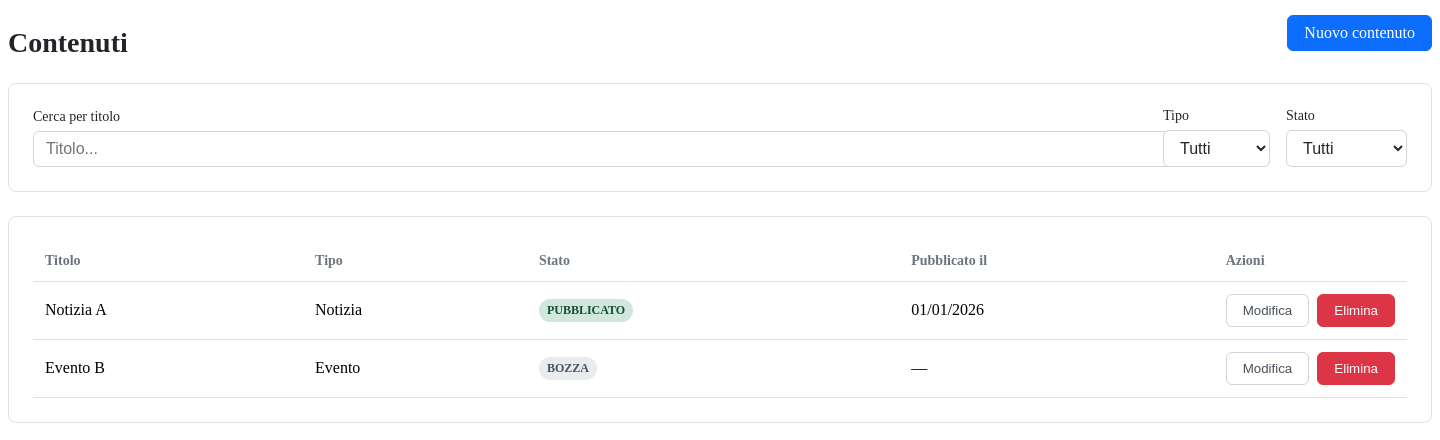
Test: ContentListPage › filters by search term
This screenshot has width=1440, height=440.
Expected: the text "Notizia A" is shown, [33,281,303,339]
Type "Evento" into the field with placeholder "Titolo..." at (603, 149), box [33,131,1173,167]
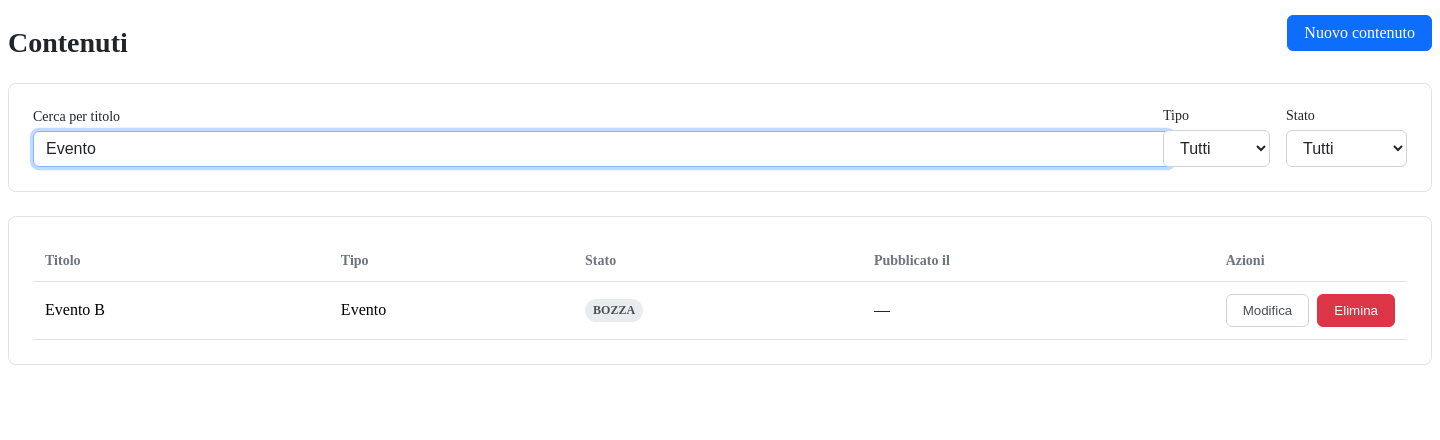
Expected: the text "Evento B" is shown, [33,281,329,339]
Expected: the text "Notizia A" is gone
